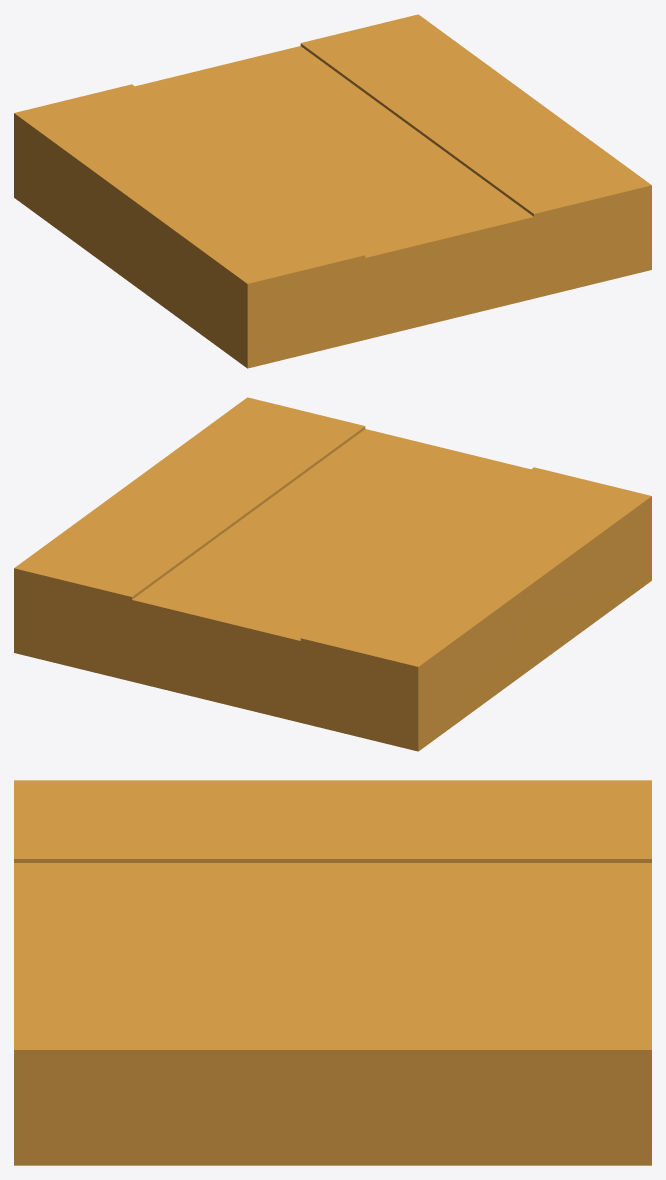
Rendered from tile-mainroad-straight-crosswalk.glb.
The picture shows the model from 3 angles, top to bottom: view 1: azimuth 30°, elevation 25°; view 2: azimuth 150°, elevation 25°; view 3: azimuth 270°, elevation 25°; orthographic projection. The views are drawn at different scales.
Parts seen in each view (by area): view 1: tile-mainroad-straight-crosswalk; view 2: tile-mainroad-straight-crosswalk; view 3: tile-mainroad-straight-crosswalk.
Boxes of the visible parts, left/top/right/bottom form: tile-mainroad-straight-crosswalk: left=14, top=14, right=651, bottom=368; tile-mainroad-straight-crosswalk: left=14, top=397, right=651, bottom=751; tile-mainroad-straight-crosswalk: left=14, top=780, right=651, bottom=1165.
Bounding box in the file's own units: 30 × 6 × 30.
